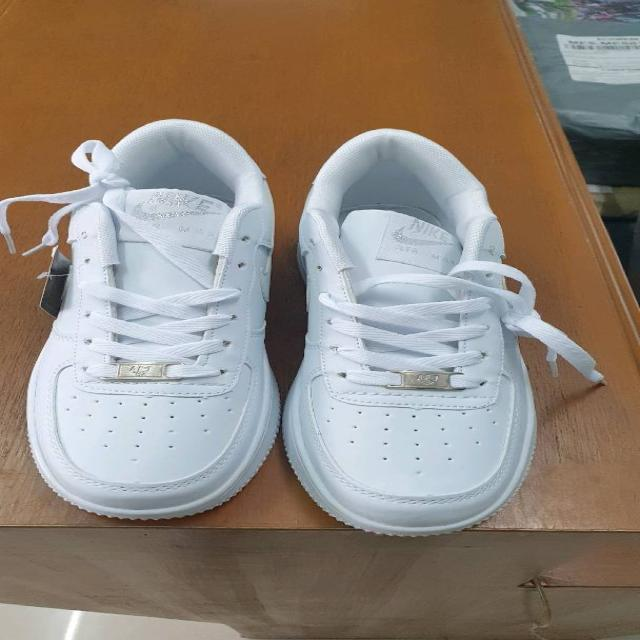nike fake air force: (284, 127, 582, 541), (18, 118, 284, 523)
